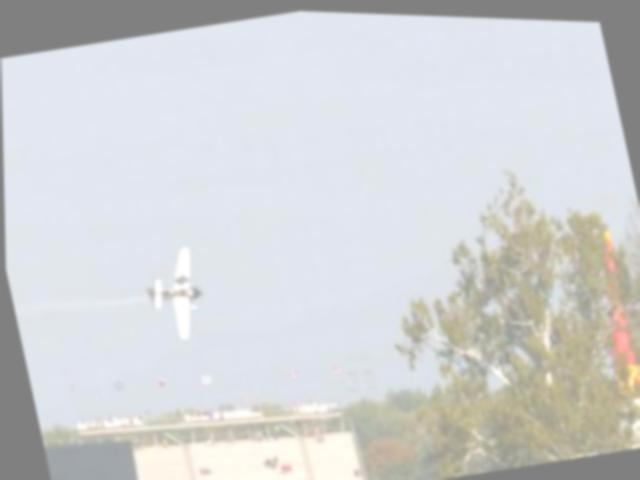uav: (134, 239, 217, 347)
